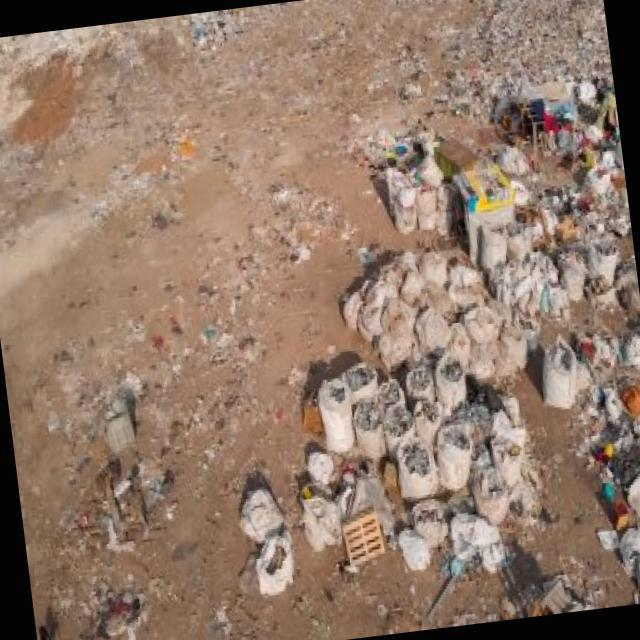garbage: (187, 54, 640, 640)
